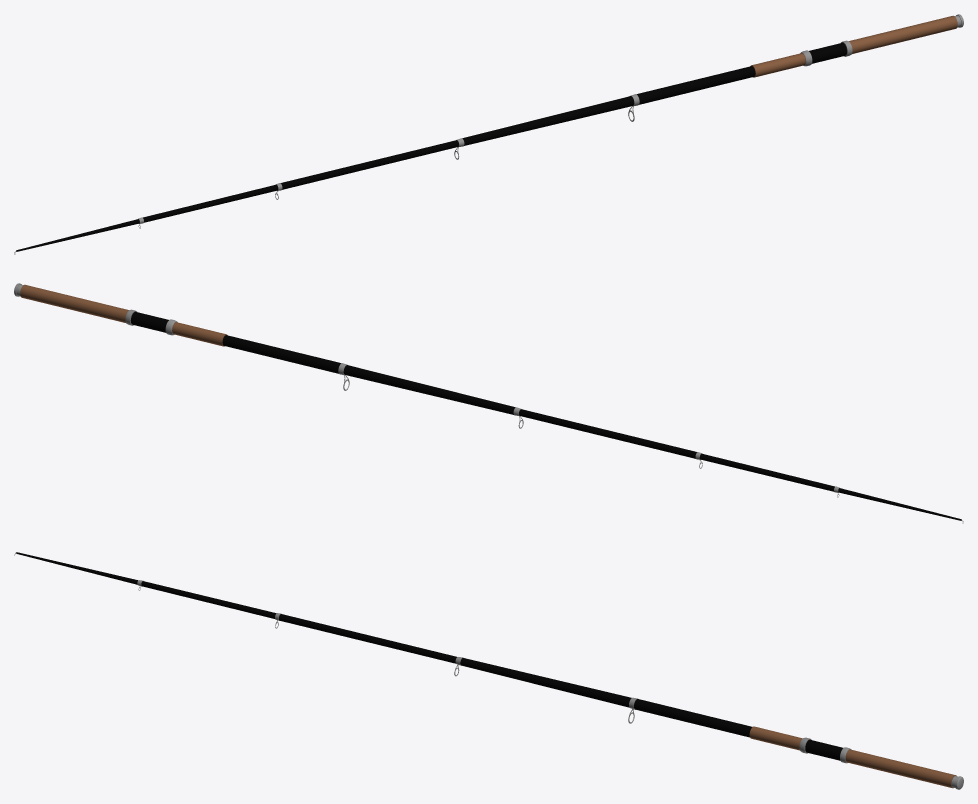
File: wedka2.fbx
3 renders of one model, top to bottom at view 1: azimuth 30°, elevation 25°; view 2: azimuth 150°, elevation 25°; view 3: azimuth 330°, elevation 25°, orthographic.
Parts seen in each view (by area): view 1: Circle.005; view 2: Circle.005; view 3: Circle.005.
Part boxes in pixels (box(x1,y1,x2,y2)): Circle.005: box(14, 14, 963, 254); Circle.005: box(14, 283, 963, 523); Circle.005: box(14, 552, 963, 789).
Size of the model in its own units: 32271 by 894 by 461.
